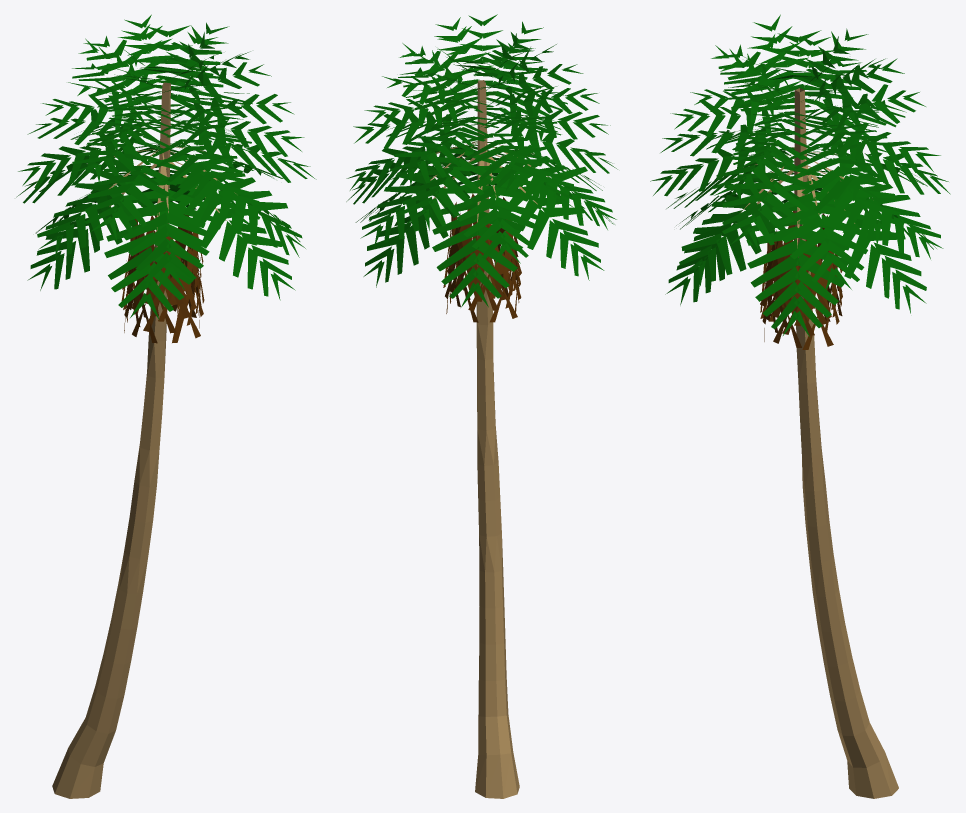
The model's file is Palm1LOD1.FBX.
The picture shows the model from 3 angles, left to right: view 1: azimuth 30°, elevation 25°; view 2: azimuth 150°, elevation 25°; view 3: azimuth 270°, elevation 25°; orthographic projection. The views are drawn at different scales.
Parts seen in each view (by area): view 1: Palm1_2, palm1_1, Palm1_3; view 2: Palm1_2, palm1_1, Palm1_3; view 3: Palm1_2, palm1_1, Palm1_3.
Part boxes in pixels (<box>): Palm1_2: <box>16,14,316,319</box>; palm1_1: <box>52,82,170,798</box>; Palm1_3: <box>121,214,204,343</box>; Palm1_2: <box>346,14,617,307</box>; palm1_1: <box>475,80,519,798</box>; Palm1_3: <box>443,193,521,322</box>; Palm1_2: <box>650,14,950,336</box>; palm1_1: <box>794,88,898,798</box>; Palm1_3: <box>760,210,842,349</box>.
Bounding box in the file's own units: 178 × 494 × 176.
